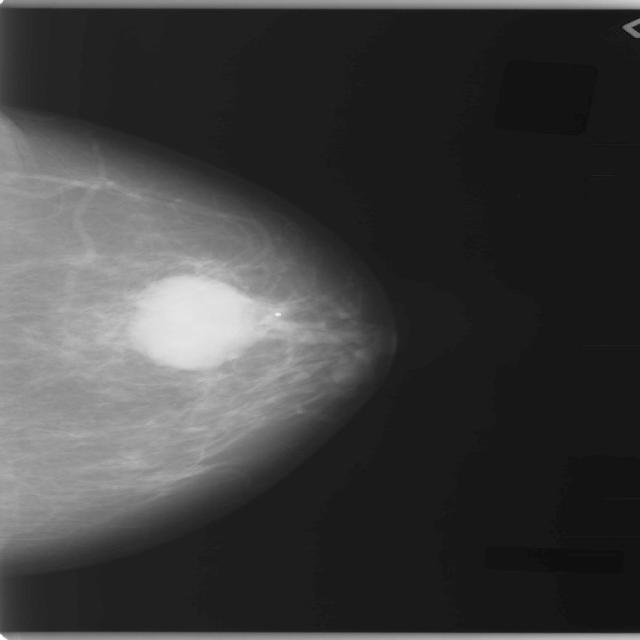tumour: (127, 273, 272, 370)
